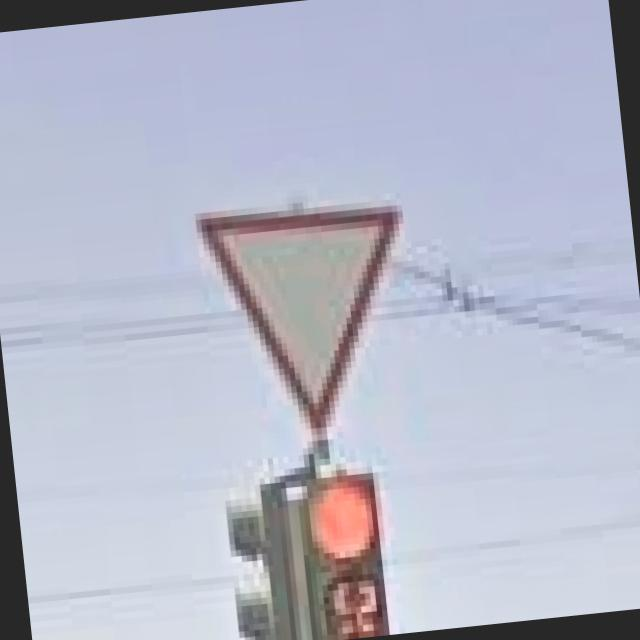Ustap pierwszenstwa: (194, 192, 424, 444)
